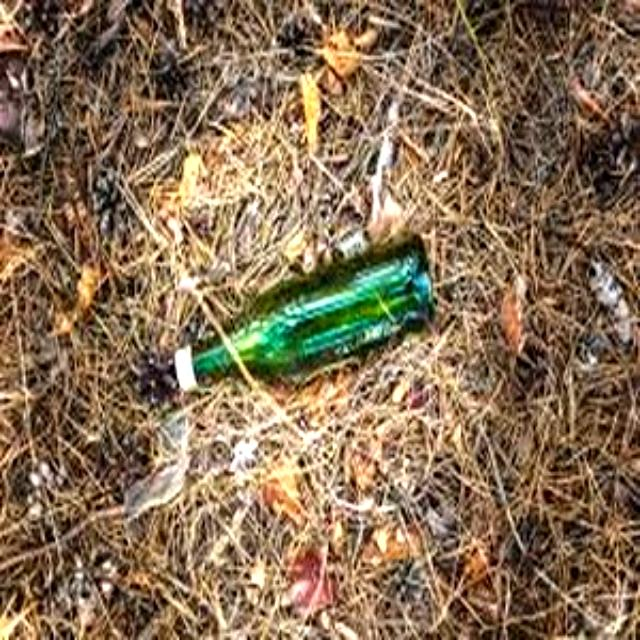Glass: (172, 232, 432, 396)
